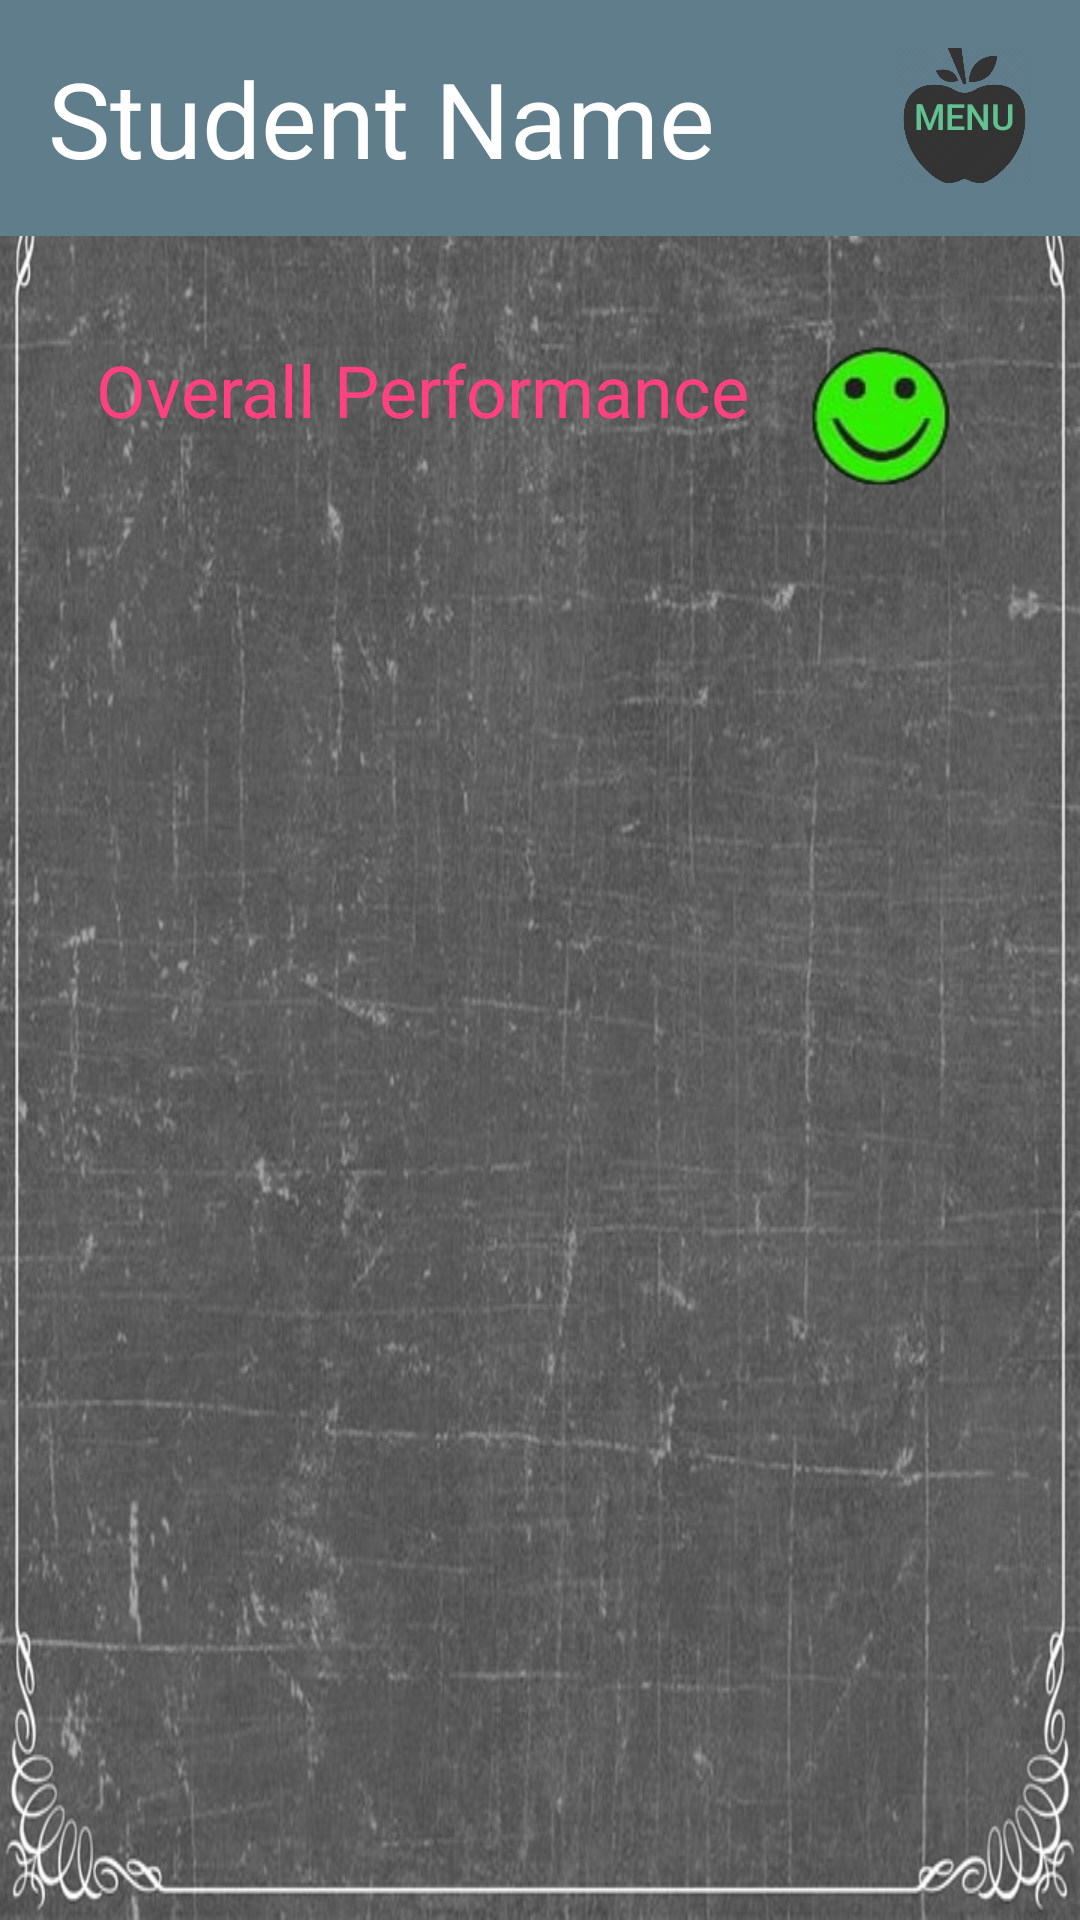

Screen size 1080 × 1920. Icon name, then its center in pixels as point (x, y):
smile: point (883, 416)
